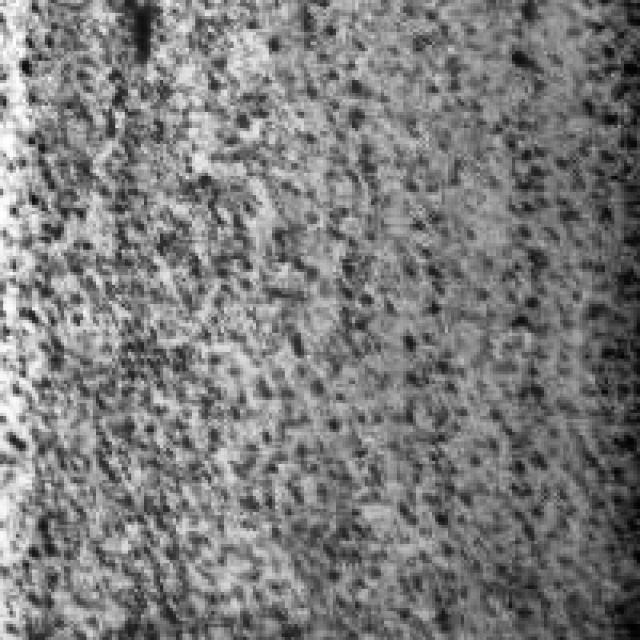Rolled_in_Scale: (243, 3, 637, 637)
